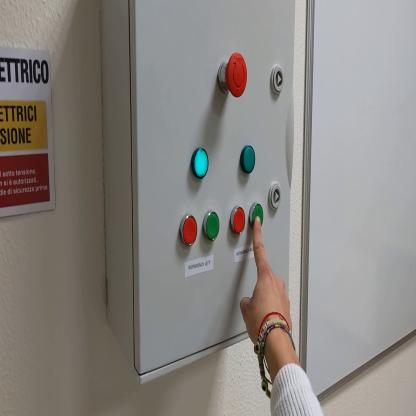hand: (239, 213, 291, 355)
left green button: (204, 211, 221, 243)
left red button: (181, 216, 199, 246)
right green button: (250, 203, 264, 235)
right red button: (231, 206, 247, 237)
